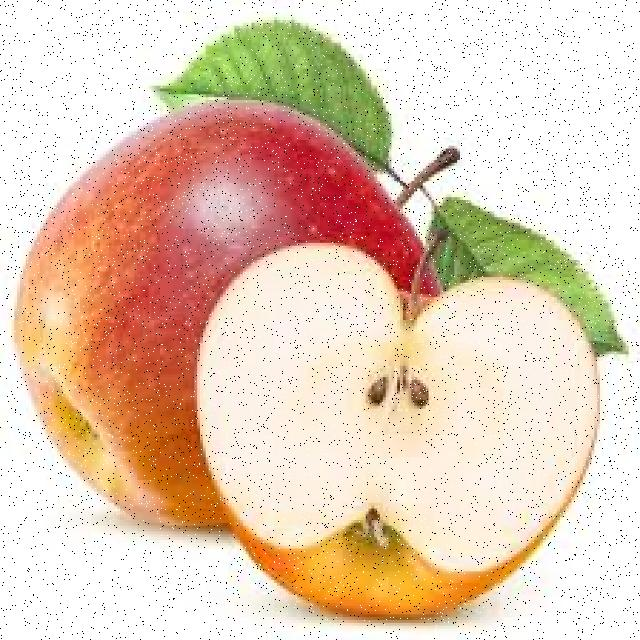Apple: (17, 104, 442, 523), (195, 239, 598, 620)
